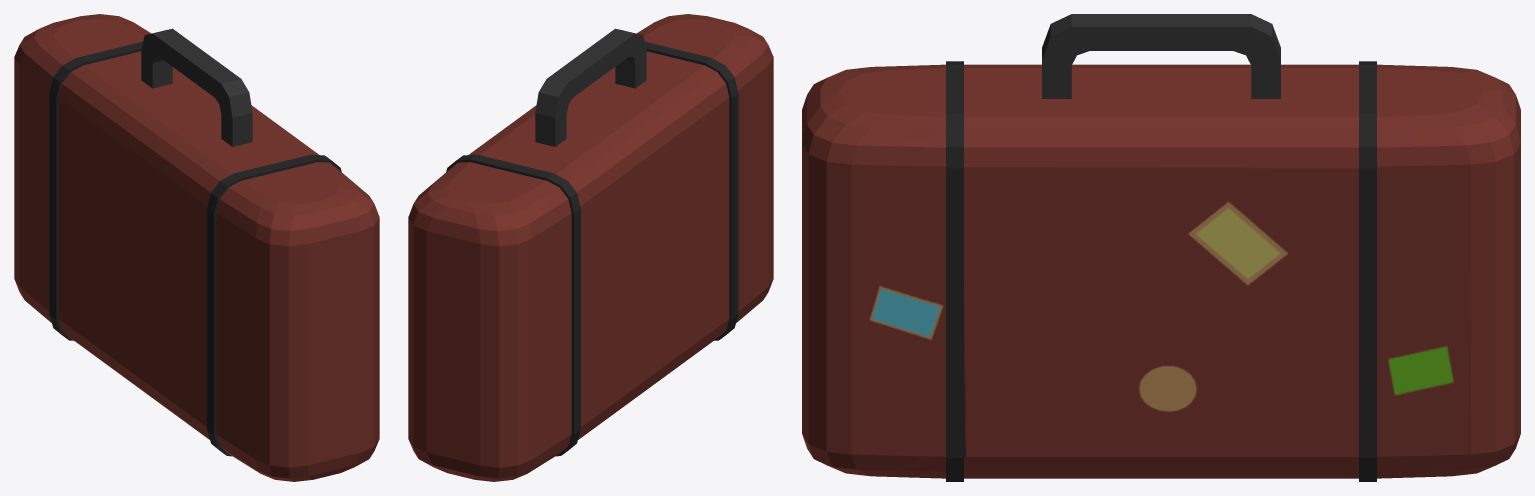
File: suitcase.fbx
3 views of the same model, side by side, from view 1: azimuth 30°, elevation 25°; view 2: azimuth 150°, elevation 25°; view 3: azimuth 270°, elevation 25° (orthographic). The views are drawn at different scales.
Parts seen in each view (by area): view 1: Cube, Куб; view 2: Cube, Куб; view 3: Cube, Куб.
Boxes of the visible parts, <box> form: Cube: <box>14,14,379,481</box>; Куб: <box>141,28,252,146</box>; Cube: <box>408,14,773,481</box>; Куб: <box>535,28,646,146</box>; Cube: <box>802,61,1520,481</box>; Куб: <box>1042,14,1280,98</box>.
Size of the model in its own units: 11 by 26.63 by 40.
